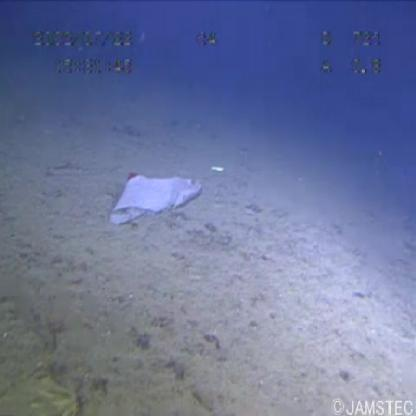Rác: (108, 161, 212, 232)
